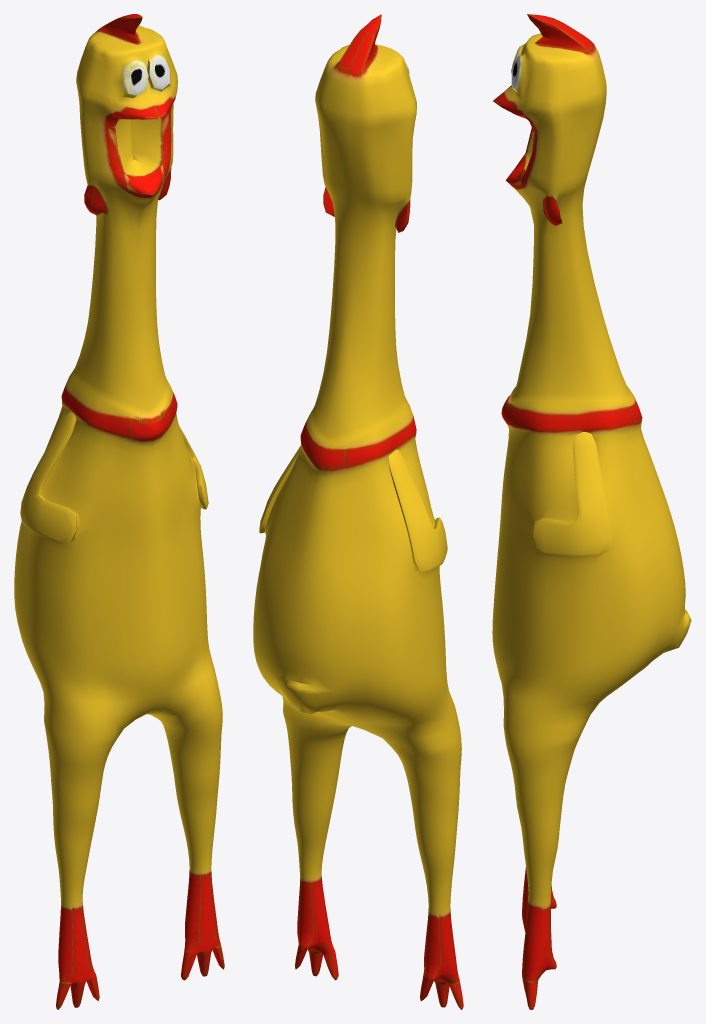
File: toy_rubber_chicken_alt.glb
The picture shows the model from 3 angles, left to right: view 1: azimuth 30°, elevation 25°; view 2: azimuth 150°, elevation 25°; view 3: azimuth 270°, elevation 25°; orthographic projection.
Parts seen in each view (by area): view 1: pCylinder2_lambert2_0; view 2: pCylinder2_lambert2_0; view 3: pCylinder2_lambert2_0.
Boxes of the visible parts, x1,y1,x2,y2 form: pCylinder2_lambert2_0: (14, 14, 224, 1009); pCylinder2_lambert2_0: (253, 14, 463, 1009); pCylinder2_lambert2_0: (492, 14, 691, 1009).
Bounding box in the file's own units: 0.0159 × 0.0857 × 0.0161.
1 material, 1 textured.
